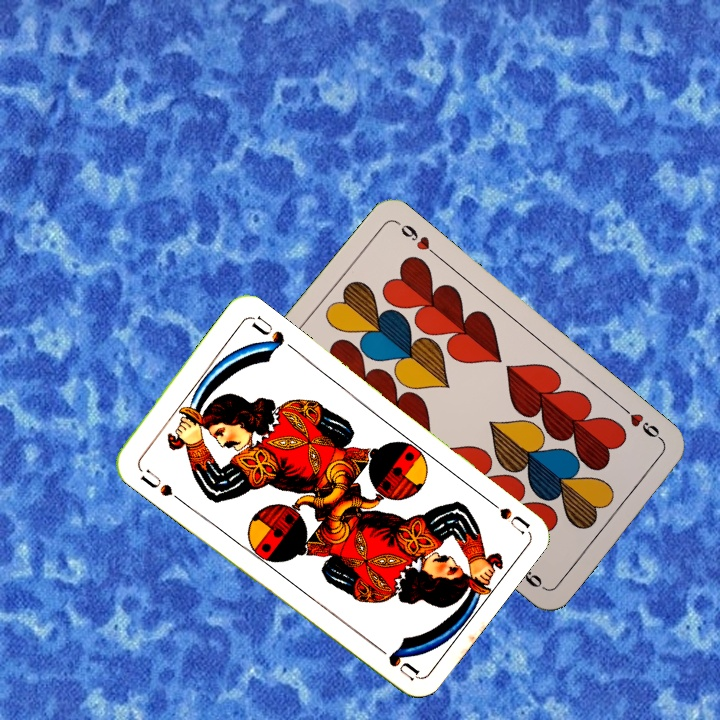H9: (617, 402, 667, 445)
SU: (478, 491, 531, 536), (134, 463, 185, 505)
